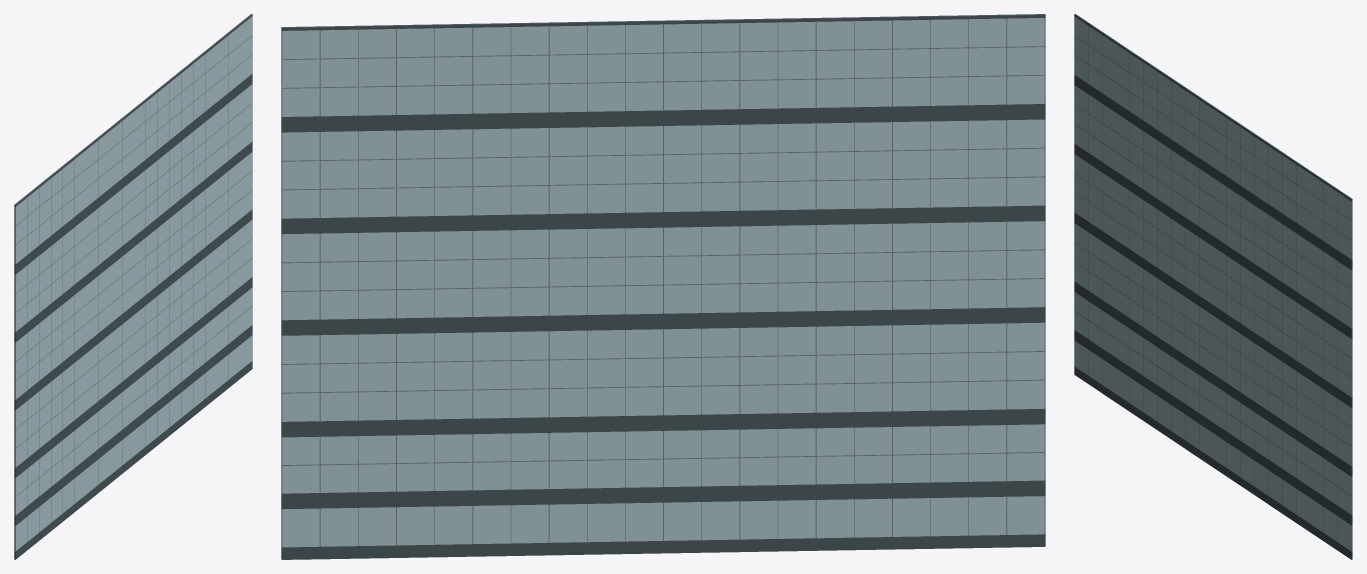
Rendered from G7_Completion_Prior_G7_MiddleExteriorSkin_E08_r001.glb.
3 renders of one model, left to right at view 1: azimuth 30°, elevation 25°; view 2: azimuth 150°, elevation 25°; view 3: azimuth 270°, elevation 25°, orthographic. The views are drawn at different scales.
Visible parts, largest first — view 1: G7_MiddleSkin_E08_glazing, G7_MiddleSkin_E08_spandrel, G7_MiddleSkin_E08_joint; view 2: G7_MiddleSkin_E08_glazing, G7_MiddleSkin_E08_spandrel, G7_MiddleSkin_E08_joint; view 3: G7_MiddleSkin_E08_glazing, G7_MiddleSkin_E08_spandrel, G7_MiddleSkin_E08_joint.
Part boxes in pixels (<box>): G7_MiddleSkin_E08_glazing: <box>15,16,252,550</box>; G7_MiddleSkin_E08_spandrel: <box>14,14,252,559</box>; G7_MiddleSkin_E08_joint: <box>14,16,252,551</box>; G7_MiddleSkin_E08_glazing: <box>282,18,1044,547</box>; G7_MiddleSkin_E08_spandrel: <box>281,14,1045,559</box>; G7_MiddleSkin_E08_joint: <box>281,17,1045,546</box>; G7_MiddleSkin_E08_glazing: <box>1074,16,1351,550</box>; G7_MiddleSkin_E08_spandrel: <box>1074,14,1352,559</box>; G7_MiddleSkin_E08_joint: <box>1074,16,1352,551</box>.
Size of the model in its own units: 49.04 by 44.5 by 31.11.
3 materials, 2 textured.
